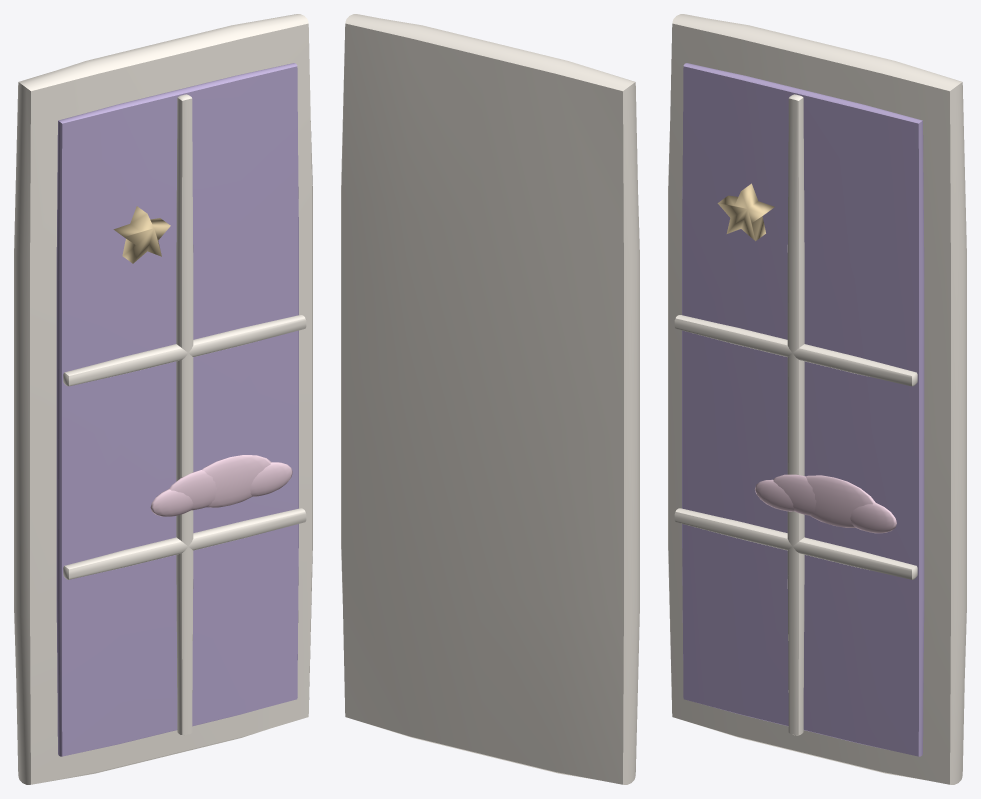
Rendered from arched_window.glb.
3 renders of one model, left to right at view 1: azimuth 30°, elevation 25°; view 2: azimuth 150°, elevation 25°; view 3: azimuth 330°, elevation 25°, orthographic.
Parts seen in each view (by area): view 1: pastel glass, arched backing, mullion, crossbar (×2), window cloud2, window star, window cloud1, window cloud3, window cloud0; view 2: arched backing; view 3: pastel glass, arched backing, mullion, crossbar (×2), window cloud2, window star, window cloud1, window cloud3, window cloud0.
Boxes of the visible parts, x1=… form: pastel glass: x1=56, y1=63, x2=298, y2=756; arched backing: x1=14, y1=14, x2=312, y2=784; mullion: x1=176, y1=94, x2=193, y2=735; crossbar (×2): x1=63, y1=315, x2=306, y2=579; window cloud2: x1=202, y1=455, x2=271, y2=507; window star: x1=113, y1=206, x2=170, y2=263; window cloud1: x1=169, y1=470, x2=216, y2=510; window cloud3: x1=250, y1=462, x2=292, y2=496; window cloud0: x1=150, y1=489, x2=193, y2=516; arched backing: x1=341, y1=14, x2=639, y2=784; pastel glass: x1=682, y1=63, x2=924, y2=756; arched backing: x1=668, y1=14, x2=966, y2=784; mullion: x1=787, y1=94, x2=804, y2=735; crossbar (×2): x1=674, y1=315, x2=917, y2=579; window cloud2: x1=806, y1=475, x2=875, y2=527; window star: x1=717, y1=183, x2=774, y2=241; window cloud1: x1=773, y1=474, x2=816, y2=515; window cloud3: x1=850, y1=503, x2=896, y2=533; window cloud0: x1=755, y1=479, x2=794, y2=511.
Size of the model in its own units: 0.95 by 2.2 by 0.23.
